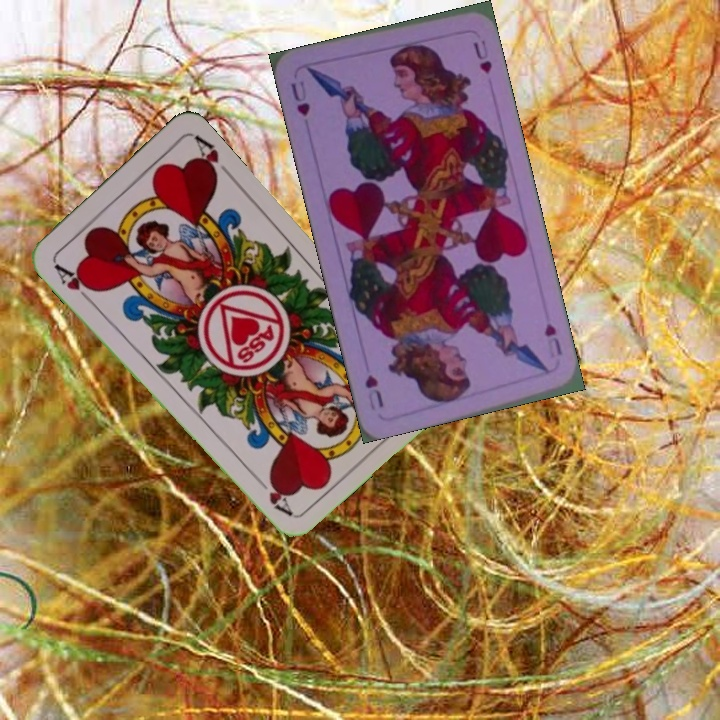HA: (49, 256, 99, 304)
HU: (286, 77, 313, 119), (540, 319, 565, 361)
